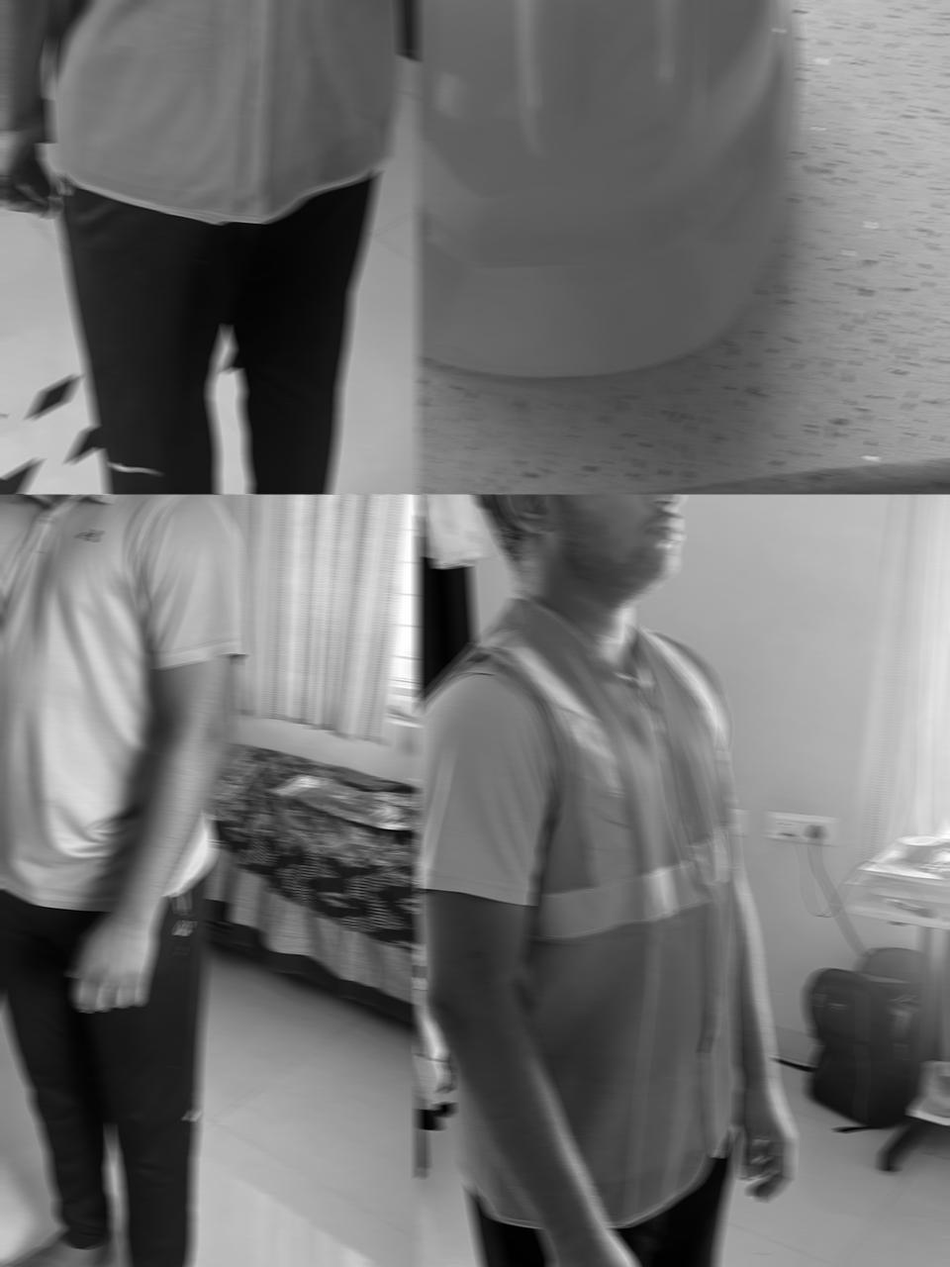BorderLine: (0, 339, 238, 494)
Helmet: (416, 0, 802, 378)
No_Helmet: (462, 494, 683, 603)
No_Vest: (0, 494, 247, 912)
Person: (416, 494, 793, 1267), (0, 0, 419, 494), (0, 494, 247, 1267)
Vest: (416, 590, 741, 1228), (44, 0, 419, 227)
